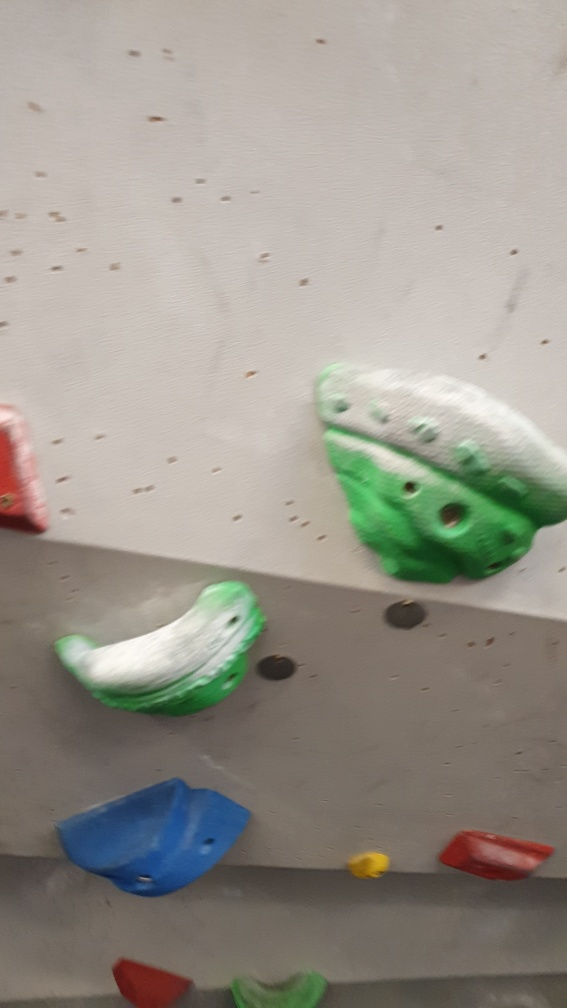Crimp: (431, 817, 555, 893), (1, 400, 56, 542)
Hand Start: (378, 591, 431, 640), (254, 646, 303, 690)
Jug: (305, 348, 567, 593), (46, 569, 271, 721), (224, 963, 342, 1008)
Pinch: (50, 772, 252, 903)
